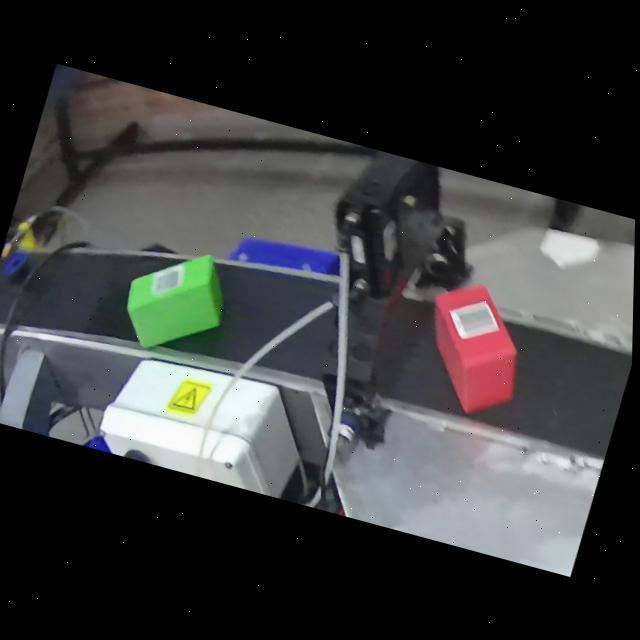greenBox: (105, 228, 248, 371)
redBox: (405, 268, 547, 430)
